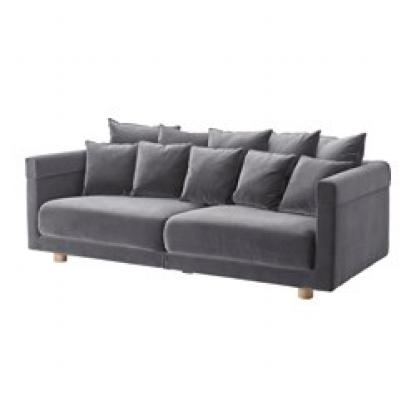Sofa: (20, 107, 391, 304)
